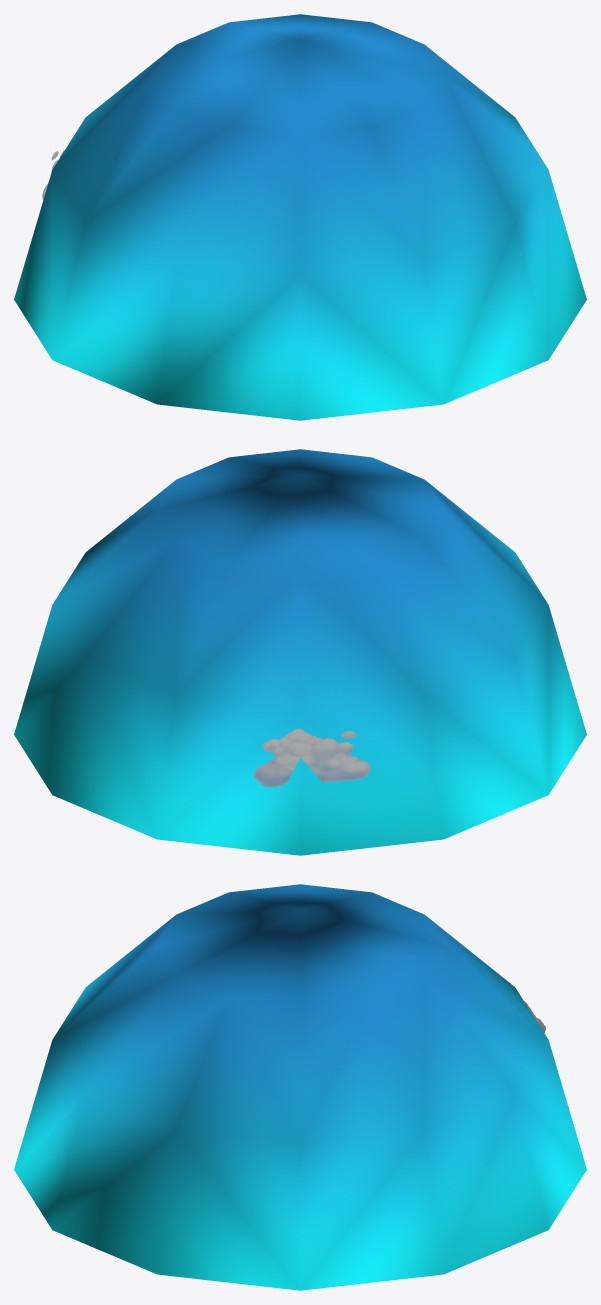
Rendered from environment.FBX.
3 renders of one model, top to bottom at view 1: azimuth 30°, elevation 25°; view 2: azimuth 150°, elevation 25°; view 3: azimuth 270°, elevation 25°, orthographic.
Visible parts, largest first — view 1: sky; view 2: sky, colud_002; view 3: sky.
Part boxes in pixels (x1,y1,x2,y2): sky: (14, 14, 586, 420); sky: (14, 449, 586, 855); colud_002: (253, 729, 370, 787); sky: (14, 884, 586, 1290).
Bounding box in the file's own units: 38090 × 19045 × 38090.
